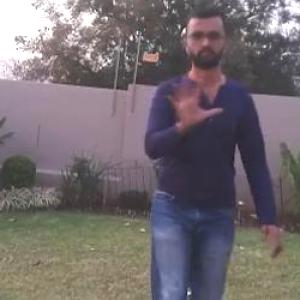follow_hand: (162, 73, 224, 127)
